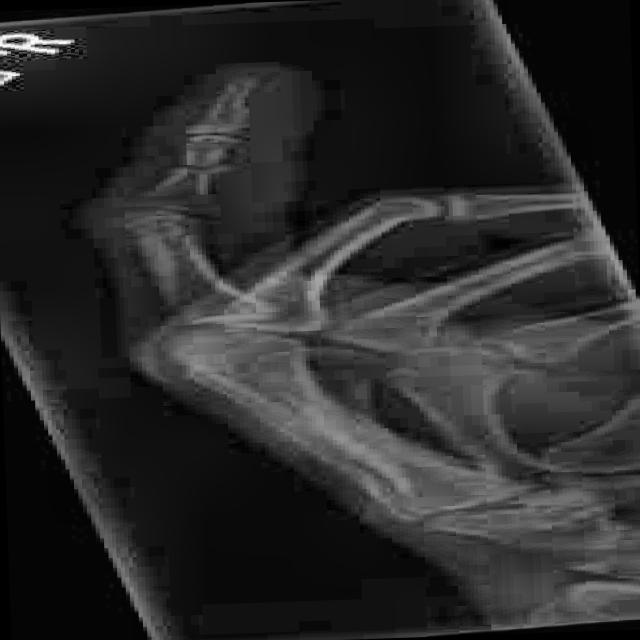fingers positive: (139, 155, 252, 188)
